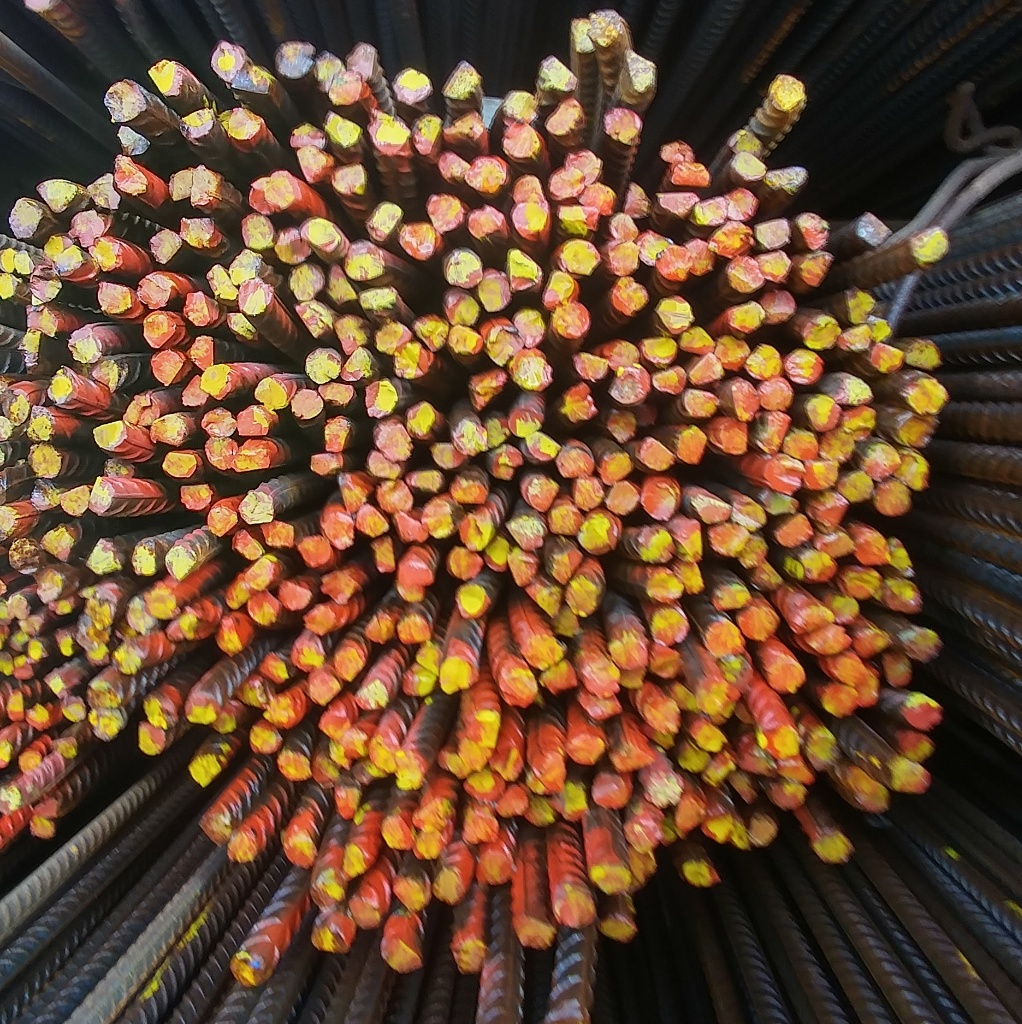dipstick: (799, 491, 851, 531), (502, 244, 540, 293), (102, 79, 146, 121), (338, 242, 386, 280), (545, 96, 588, 138), (645, 475, 684, 521), (623, 46, 661, 93), (586, 8, 628, 50), (649, 605, 690, 648), (908, 226, 950, 267), (108, 155, 147, 199), (851, 524, 888, 569), (578, 687, 625, 722), (603, 105, 643, 146), (368, 115, 409, 155), (537, 267, 579, 306), (467, 371, 510, 409), (510, 915, 554, 952), (786, 550, 835, 583), (552, 890, 598, 925), (305, 217, 345, 257), (605, 276, 646, 315), (768, 71, 803, 116), (610, 364, 648, 405), (524, 633, 565, 671), (719, 256, 761, 293), (511, 350, 550, 389), (412, 312, 452, 350), (505, 517, 547, 553), (893, 631, 941, 662), (553, 298, 591, 337), (884, 578, 922, 617), (294, 300, 333, 338), (286, 260, 325, 298), (767, 163, 807, 200), (398, 221, 438, 258), (425, 191, 462, 231), (714, 416, 751, 456), (578, 515, 618, 552), (710, 221, 753, 255), (450, 934, 484, 977), (231, 438, 274, 472), (873, 479, 911, 517), (502, 121, 541, 158), (837, 287, 876, 324), (907, 378, 946, 415), (538, 56, 578, 92), (767, 455, 807, 491), (613, 636, 653, 672), (724, 298, 759, 339), (390, 69, 432, 103), (562, 575, 596, 617), (782, 350, 825, 383), (391, 341, 434, 374), (713, 577, 750, 615), (379, 815, 417, 852), (247, 591, 285, 628), (238, 209, 274, 248), (445, 250, 484, 286), (475, 273, 514, 309), (226, 953, 265, 989), (756, 291, 796, 326), (801, 315, 841, 350), (273, 41, 314, 75), (367, 200, 400, 242), (112, 124, 154, 157), (894, 448, 927, 490), (543, 537, 576, 579), (570, 727, 603, 769), (450, 418, 487, 455), (87, 705, 124, 742), (146, 58, 184, 94), (382, 939, 420, 975), (433, 870, 469, 908), (561, 241, 600, 276), (447, 546, 486, 581), (727, 498, 771, 529), (675, 424, 708, 465), (702, 618, 743, 651), (540, 663, 581, 696), (628, 814, 661, 855), (860, 442, 897, 478), (500, 670, 536, 707), (894, 757, 929, 795), (598, 771, 633, 809), (463, 806, 498, 844), (277, 747, 315, 782), (324, 110, 358, 149), (740, 602, 779, 636), (466, 158, 506, 191), (326, 267, 356, 311), (467, 206, 503, 242), (281, 833, 317, 869), (224, 108, 259, 145), (841, 404, 878, 439), (745, 345, 783, 379), (377, 422, 415, 456), (655, 191, 701, 219), (448, 61, 481, 100), (364, 384, 403, 417), (217, 615, 250, 654), (90, 237, 129, 270), (725, 381, 757, 421), (9, 198, 41, 238), (371, 481, 415, 510), (557, 203, 598, 234), (431, 440, 472, 471), (338, 471, 369, 512), (322, 509, 353, 550), (755, 249, 791, 284), (655, 246, 690, 282), (654, 296, 690, 331), (484, 323, 519, 359), (843, 566, 880, 600), (607, 479, 641, 516), (527, 474, 561, 511), (583, 658, 617, 695), (392, 876, 426, 913), (312, 921, 349, 955), (231, 528, 268, 562), (200, 436, 234, 473), (563, 148, 601, 181), (477, 852, 515, 885), (187, 755, 225, 788), (174, 217, 212, 250), (209, 265, 241, 304), (347, 43, 378, 83), (641, 440, 681, 471), (759, 414, 787, 458), (564, 14, 594, 55), (857, 213, 891, 249), (267, 172, 301, 208), (635, 526, 669, 562), (455, 581, 489, 617), (293, 635, 329, 669), (882, 538, 915, 575), (458, 515, 495, 548), (231, 250, 268, 283), (29, 264, 62, 301), (812, 626, 854, 655), (558, 447, 596, 479), (140, 692, 178, 724), (367, 450, 405, 482), (183, 290, 215, 328), (692, 495, 731, 526), (438, 660, 472, 695), (298, 534, 332, 569), (260, 521, 295, 555), (37, 527, 72, 561), (441, 290, 482, 319), (674, 517, 703, 558), (37, 180, 78, 209), (798, 253, 831, 289), (241, 178, 274, 214), (552, 607, 588, 640), (95, 282, 131, 315), (152, 415, 188, 448), (672, 158, 709, 190), (710, 521, 747, 553), (648, 567, 685, 599), (197, 814, 234, 846), (448, 322, 486, 353), (696, 679, 734, 710), (555, 783, 586, 821), (810, 836, 852, 864), (533, 757, 563, 796), (793, 212, 827, 246), (513, 200, 547, 234), (534, 583, 568, 617), (240, 280, 274, 314), (549, 166, 582, 201), (330, 163, 365, 196), (782, 427, 817, 460), (567, 384, 600, 419), (354, 507, 389, 540), (109, 639, 142, 674), (295, 141, 327, 177), (899, 414, 935, 446), (820, 429, 856, 461), (769, 660, 805, 692), (550, 502, 586, 534), (149, 229, 181, 265), (26, 446, 62, 478), (449, 114, 486, 145), (331, 72, 362, 109), (598, 450, 635, 481), (903, 696, 940, 727), (652, 646, 683, 683), (204, 505, 241, 536), (448, 473, 486, 503), (650, 369, 692, 396), (312, 51, 341, 90), (592, 863, 631, 892), (468, 774, 507, 803), (581, 182, 614, 216), (869, 341, 903, 374), (515, 308, 548, 342), (900, 729, 934, 762), (309, 671, 343, 704), (424, 501, 458, 534), (276, 227, 308, 262), (689, 354, 724, 386), (86, 477, 114, 517), (144, 313, 176, 348), (24, 303, 59, 335), (804, 396, 840, 427), (322, 572, 358, 603), (393, 512, 429, 543), (200, 407, 236, 438), (288, 121, 325, 151), (640, 335, 677, 365), (763, 727, 800, 757), (572, 479, 609, 509), (407, 404, 437, 441), (683, 855, 721, 884), (336, 646, 365, 684), (69, 212, 107, 241), (638, 230, 671, 263), (730, 152, 764, 184), (904, 338, 938, 370), (778, 513, 812, 545), (602, 912, 636, 944), (469, 711, 501, 745), (506, 405, 541, 436), (525, 434, 560, 465), (856, 776, 887, 811), (94, 356, 125, 391), (366, 736, 396, 772), (357, 286, 400, 311), (371, 324, 408, 353), (407, 468, 445, 496), (504, 89, 536, 122), (605, 339, 638, 371), (841, 470, 874, 502), (332, 317, 365, 349), (236, 405, 269, 437), (719, 336, 750, 370), (836, 650, 867, 684), (764, 488, 803, 515), (179, 113, 221, 138), (755, 219, 791, 248), (836, 376, 872, 405), (483, 537, 512, 573), (137, 277, 173, 306), (95, 421, 131, 450), (412, 115, 438, 155), (393, 751, 421, 788), (305, 350, 342, 378), (372, 538, 399, 576), (225, 833, 257, 865), (647, 705, 680, 736), (491, 748, 524, 779), (343, 852, 376, 883), (311, 874, 342, 907), (152, 350, 183, 383), (725, 188, 755, 222), (211, 45, 245, 75), (818, 529, 852, 559), (673, 562, 707, 592), (352, 897, 382, 931), (190, 169, 219, 204), (805, 460, 840, 489), (683, 391, 722, 417), (102, 456, 141, 482), (2, 387, 28, 426), (277, 583, 314, 610), (607, 210, 639, 241), (609, 243, 640, 275), (762, 381, 793, 413), (826, 684, 858, 715), (507, 552, 538, 584), (772, 781, 804, 812), (523, 796, 555, 827), (127, 395, 159, 426), (631, 395, 661, 428), (885, 652, 915, 685), (613, 744, 646, 774), (646, 774, 676, 807), (244, 495, 277, 525), (203, 367, 233, 400), (680, 326, 718, 352), (88, 590, 114, 628), (433, 149, 467, 178), (837, 324, 871, 353), (749, 814, 778, 848), (343, 352, 377, 381), (236, 69, 271, 97), (397, 614, 432, 642), (677, 797, 702, 836), (33, 574, 72, 599), (731, 133, 767, 160), (738, 531, 765, 567), (163, 548, 194, 579), (249, 721, 279, 753), (181, 483, 213, 513), (6, 539, 38, 569), (438, 750, 471, 779), (412, 833, 445, 862), (147, 588, 176, 621), (456, 741, 490, 769), (693, 198, 728, 225), (622, 181, 648, 217), (657, 138, 693, 164), (628, 849, 658, 880), (310, 755, 340, 786), (403, 664, 433, 695), (137, 722, 167, 753), (89, 543, 119, 574), (254, 379, 284, 410), (514, 173, 546, 202), (679, 741, 708, 773), (491, 445, 520, 477), (324, 418, 353, 450), (130, 545, 162, 574), (226, 310, 255, 342), (88, 175, 117, 207), (690, 239, 715, 276), (418, 805, 455, 830), (84, 678, 121, 703), (853, 632, 886, 660), (367, 610, 395, 643), (355, 683, 389, 710), (321, 380, 355, 407), (33, 476, 60, 510), (694, 722, 724, 752), (208, 707, 238, 737), (229, 576, 254, 612), (267, 698, 298, 727), (573, 351, 605, 379), (320, 707, 352, 735), (787, 608, 834, 627), (608, 407, 635, 440), (401, 557, 434, 584), (304, 607, 337, 634), (186, 697, 216, 726), (293, 390, 323, 419), (191, 336, 215, 372), (331, 782, 357, 815), (339, 732, 372, 758), (58, 490, 91, 516), (811, 734, 835, 769), (239, 675, 269, 703), (750, 563, 781, 590), (484, 414, 510, 446), (258, 656, 291, 681), (779, 762, 816, 784), (246, 557, 275, 585), (26, 410, 54, 439), (499, 787, 525, 818), (183, 376, 209, 407), (70, 330, 96, 361), (164, 452, 196, 477), (396, 579, 429, 603), (310, 451, 341, 476), (175, 619, 206, 644), (168, 170, 195, 198), (416, 644, 443, 671), (831, 596, 857, 624), (1, 504, 21, 540), (51, 369, 72, 403), (45, 667, 70, 695), (126, 605, 155, 629), (709, 815, 732, 845), (10, 251, 34, 279), (58, 248, 83, 274), (31, 703, 52, 733), (43, 234, 68, 258), (7, 691, 27, 721), (5, 631, 28, 656), (28, 821, 58, 840), (60, 696, 83, 720), (52, 629, 74, 654), (10, 597, 34, 619), (871, 314, 891, 340), (42, 802, 69, 821), (49, 597, 75, 615), (1, 273, 17, 302), (15, 655, 36, 677), (22, 615, 44, 636), (29, 638, 48, 662), (19, 749, 39, 771), (707, 753, 721, 783), (1, 250, 17, 272)
